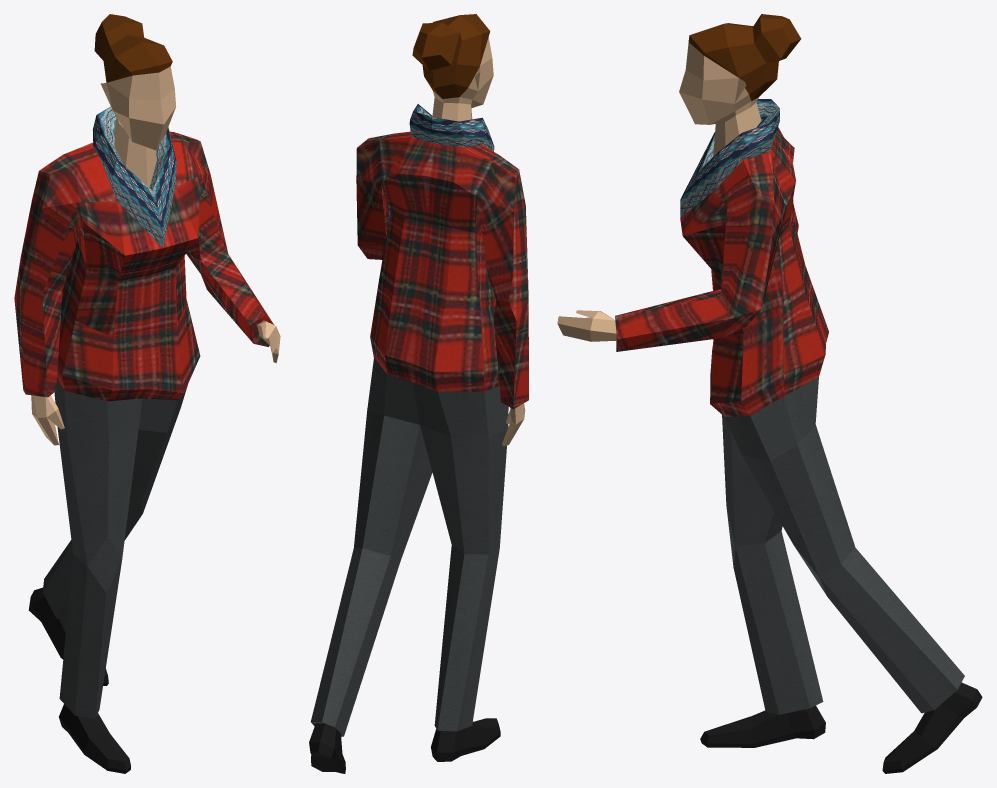
File: AutumnWomanC.007.glb
3 views of the same model, side by side, from view 1: azimuth 30°, elevation 25°; view 2: azimuth 150°, elevation 25°; view 3: azimuth 270°, elevation 25° (orthographic). The views are drawn at different scales.
Visible parts, largest first — view 1: AutumnWomanC.007; view 2: AutumnWomanC.007; view 3: AutumnWomanC.007.
Boxes of the visible parts, x1,y1,x2,y2 form: AutumnWomanC.007: (14, 14, 280, 773); AutumnWomanC.007: (309, 14, 528, 773); AutumnWomanC.007: (557, 14, 982, 773).
Size of the model in its own units: 0.4647 by 1.71 by 0.8908.
1 material, 1 textured.
